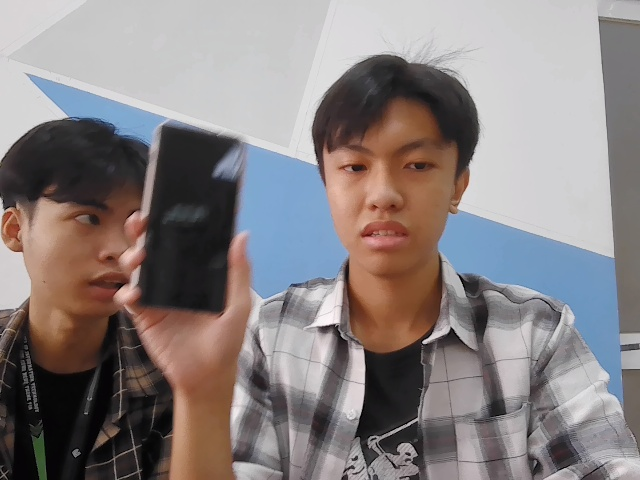human: (304, 56, 483, 274), (4, 116, 142, 331)
phone: (145, 118, 253, 324)
